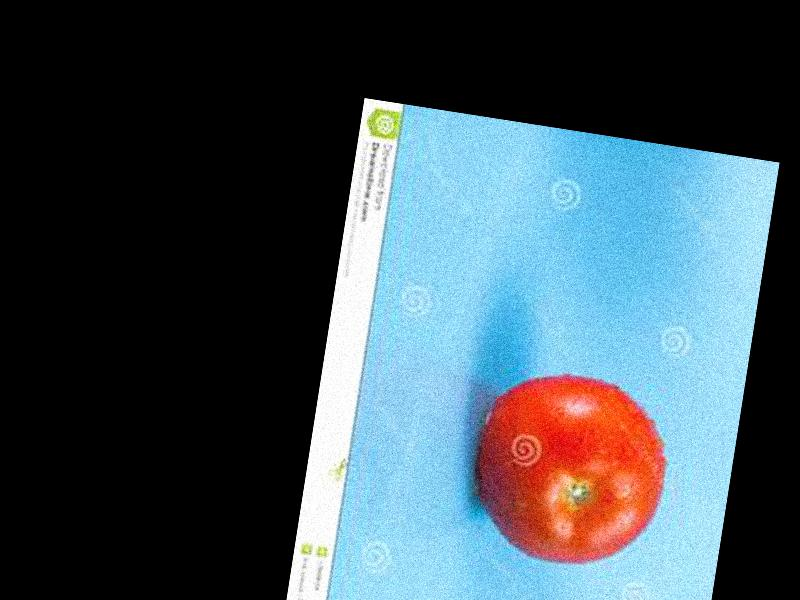Tomato: (465, 363, 677, 579)
